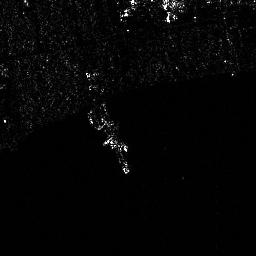ship: (109, 142, 132, 174)
